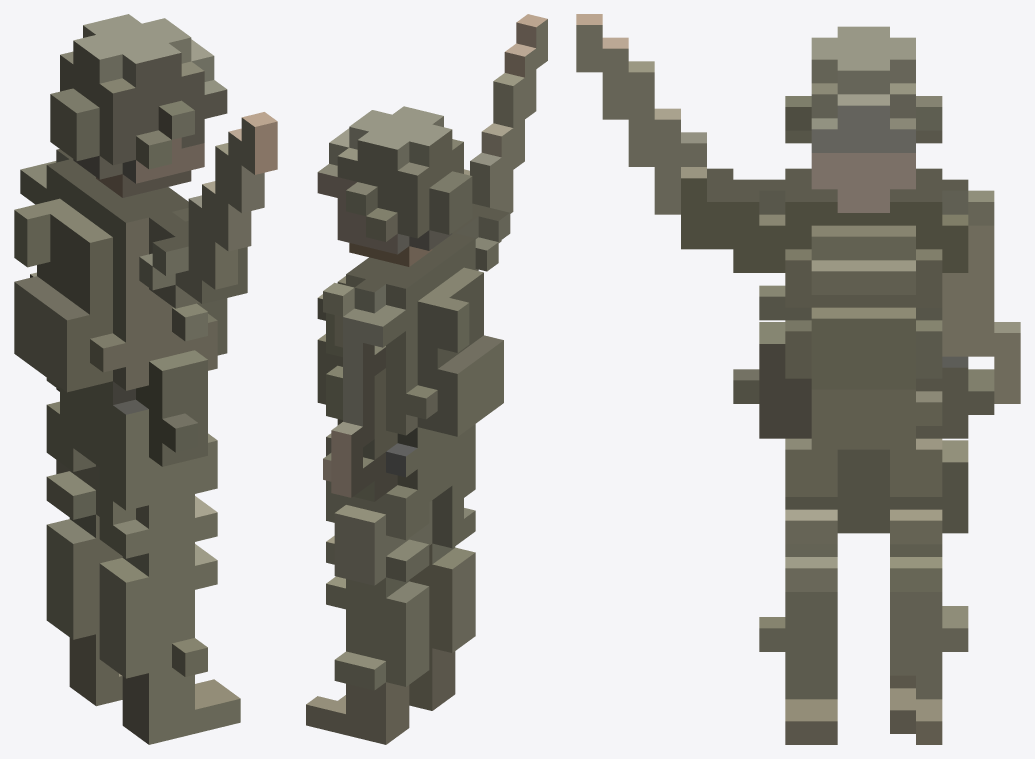
The model's file is memorial.glb.
3 renders of one model, left to right at view 1: azimuth 30°, elevation 25°; view 2: azimuth 150°, elevation 25°; view 3: azimuth 270°, elevation 25°, orthographic. The views are drawn at different scales.
Visible parts, largest first — view 1: statue; view 2: statue; view 3: statue.
Boxes of the visible parts, x1,y1,x2,y2 form: statue: [14, 14, 277, 744]; statue: [306, 14, 547, 744]; statue: [576, 14, 1020, 744].
Bounding box in the file's own units: 0.3375 × 1.4 × 0.8196.
